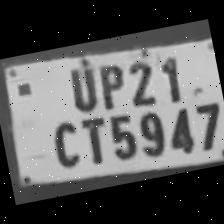1: (151, 49, 188, 104)
2: (119, 54, 158, 107)
4: (160, 99, 198, 156)
5: (102, 107, 140, 163)
7: (186, 93, 224, 154)
9: (131, 104, 168, 158)
C: (42, 115, 84, 171)
P: (90, 57, 130, 111)
T: (74, 110, 111, 166)
U: (60, 58, 100, 112)
